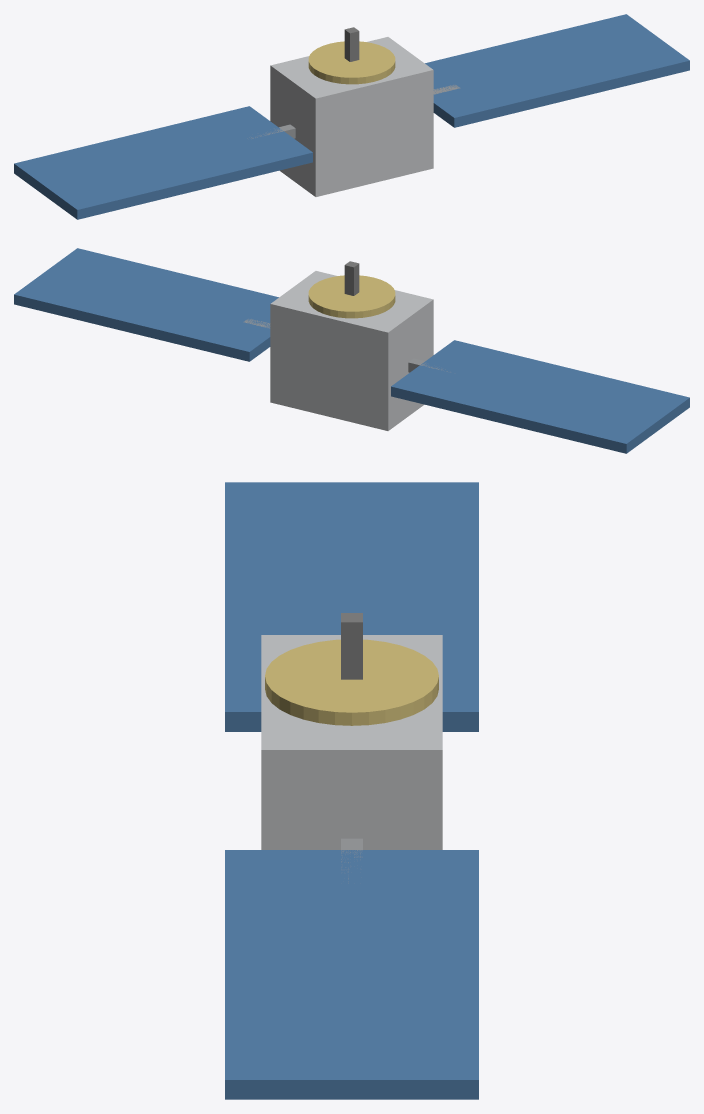
File: kleo_satellite.glb
3 renders of one model, top to bottom at view 1: azimuth 30°, elevation 25°; view 2: azimuth 150°, elevation 25°; view 3: azimuth 270°, elevation 25°, orthographic. The views are drawn at different scales.
Visible parts, largest first — view 1: panel_left, bus, panel_right, antenna, feed; view 2: panel_left, bus, panel_right, antenna, feed; view 3: panel_right, panel_left, bus, antenna, feed.
Boxes of the visible parts, x1,y1,x2,y2 form: panel_left: (14,106,312,219); bus: (270,37,433,196); panel_right: (425,14,689,127); antenna: (308,41,395,84); feed: (344,27,359,61); panel_left: (391,340,689,453); bus: (270,271,433,430); panel_right: (14,248,278,361); antenna: (308,275,395,318); feed: (344,261,359,295); panel_right: (225,850,478,1099); panel_left: (225,482,478,731); bus: (261,635,442,849); antenna: (265,639,438,725); feed: (341,613,362,679).
Size of the model in its own units: 7.8 by 1.66 by 1.4.
